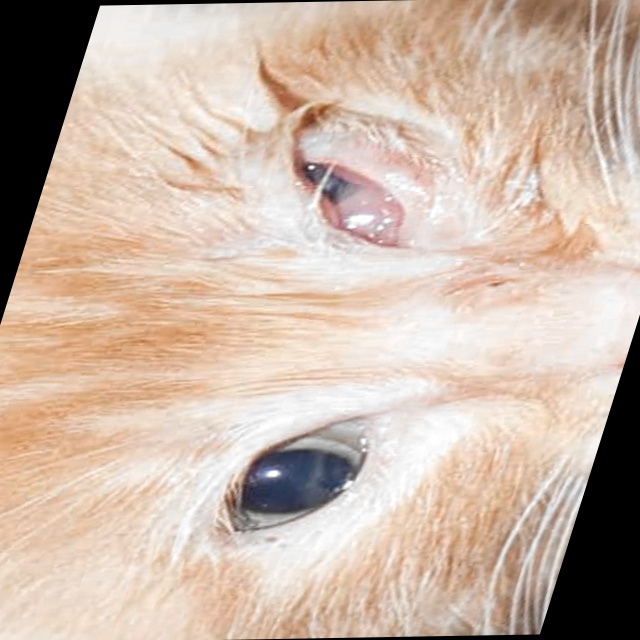eye_infection: (213, 410, 387, 539), (275, 157, 430, 240)
